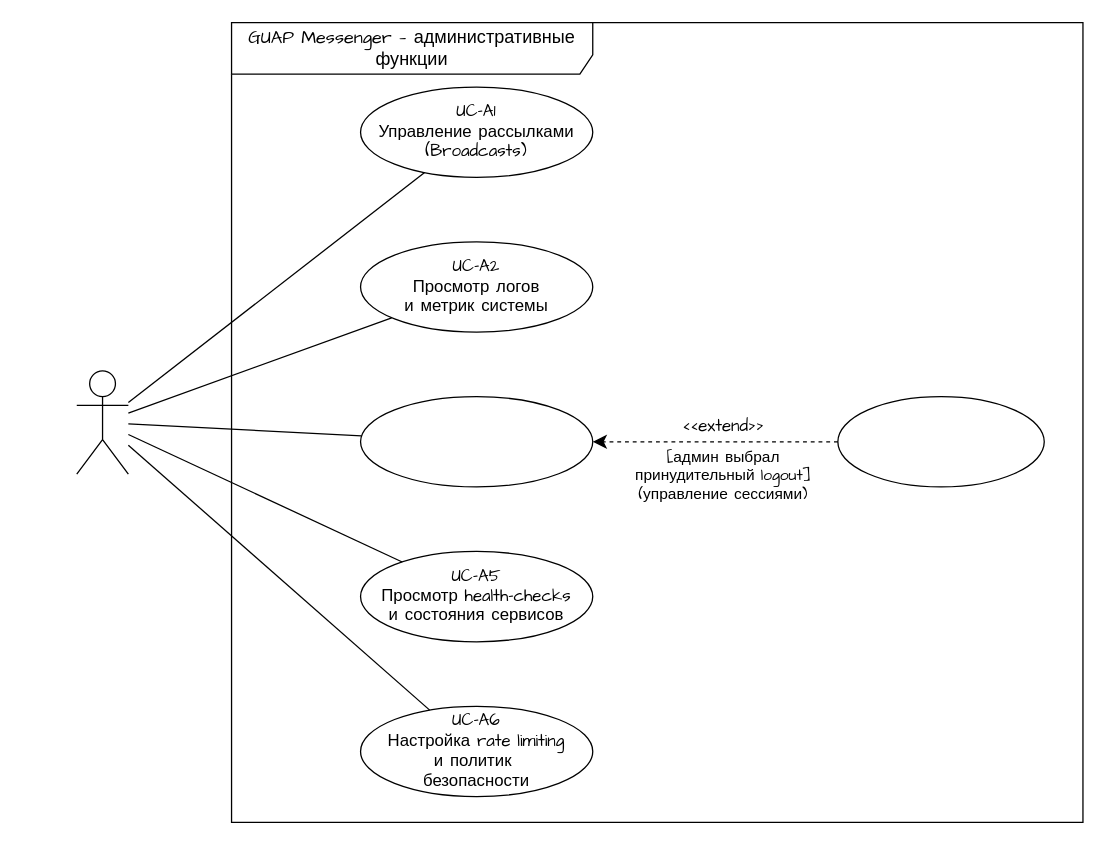
This 1106x845 diagram has some shape labels left out. Each missing label, with the box of its shape:
UC-A3 Управление сессиями пользователей: (359, 395, 593, 487)
UC-A4 Принудительное завершение сессии: (837, 395, 1044, 487)
Администратор (контент-менеджер / системный админ): (75, 370, 128, 474)
